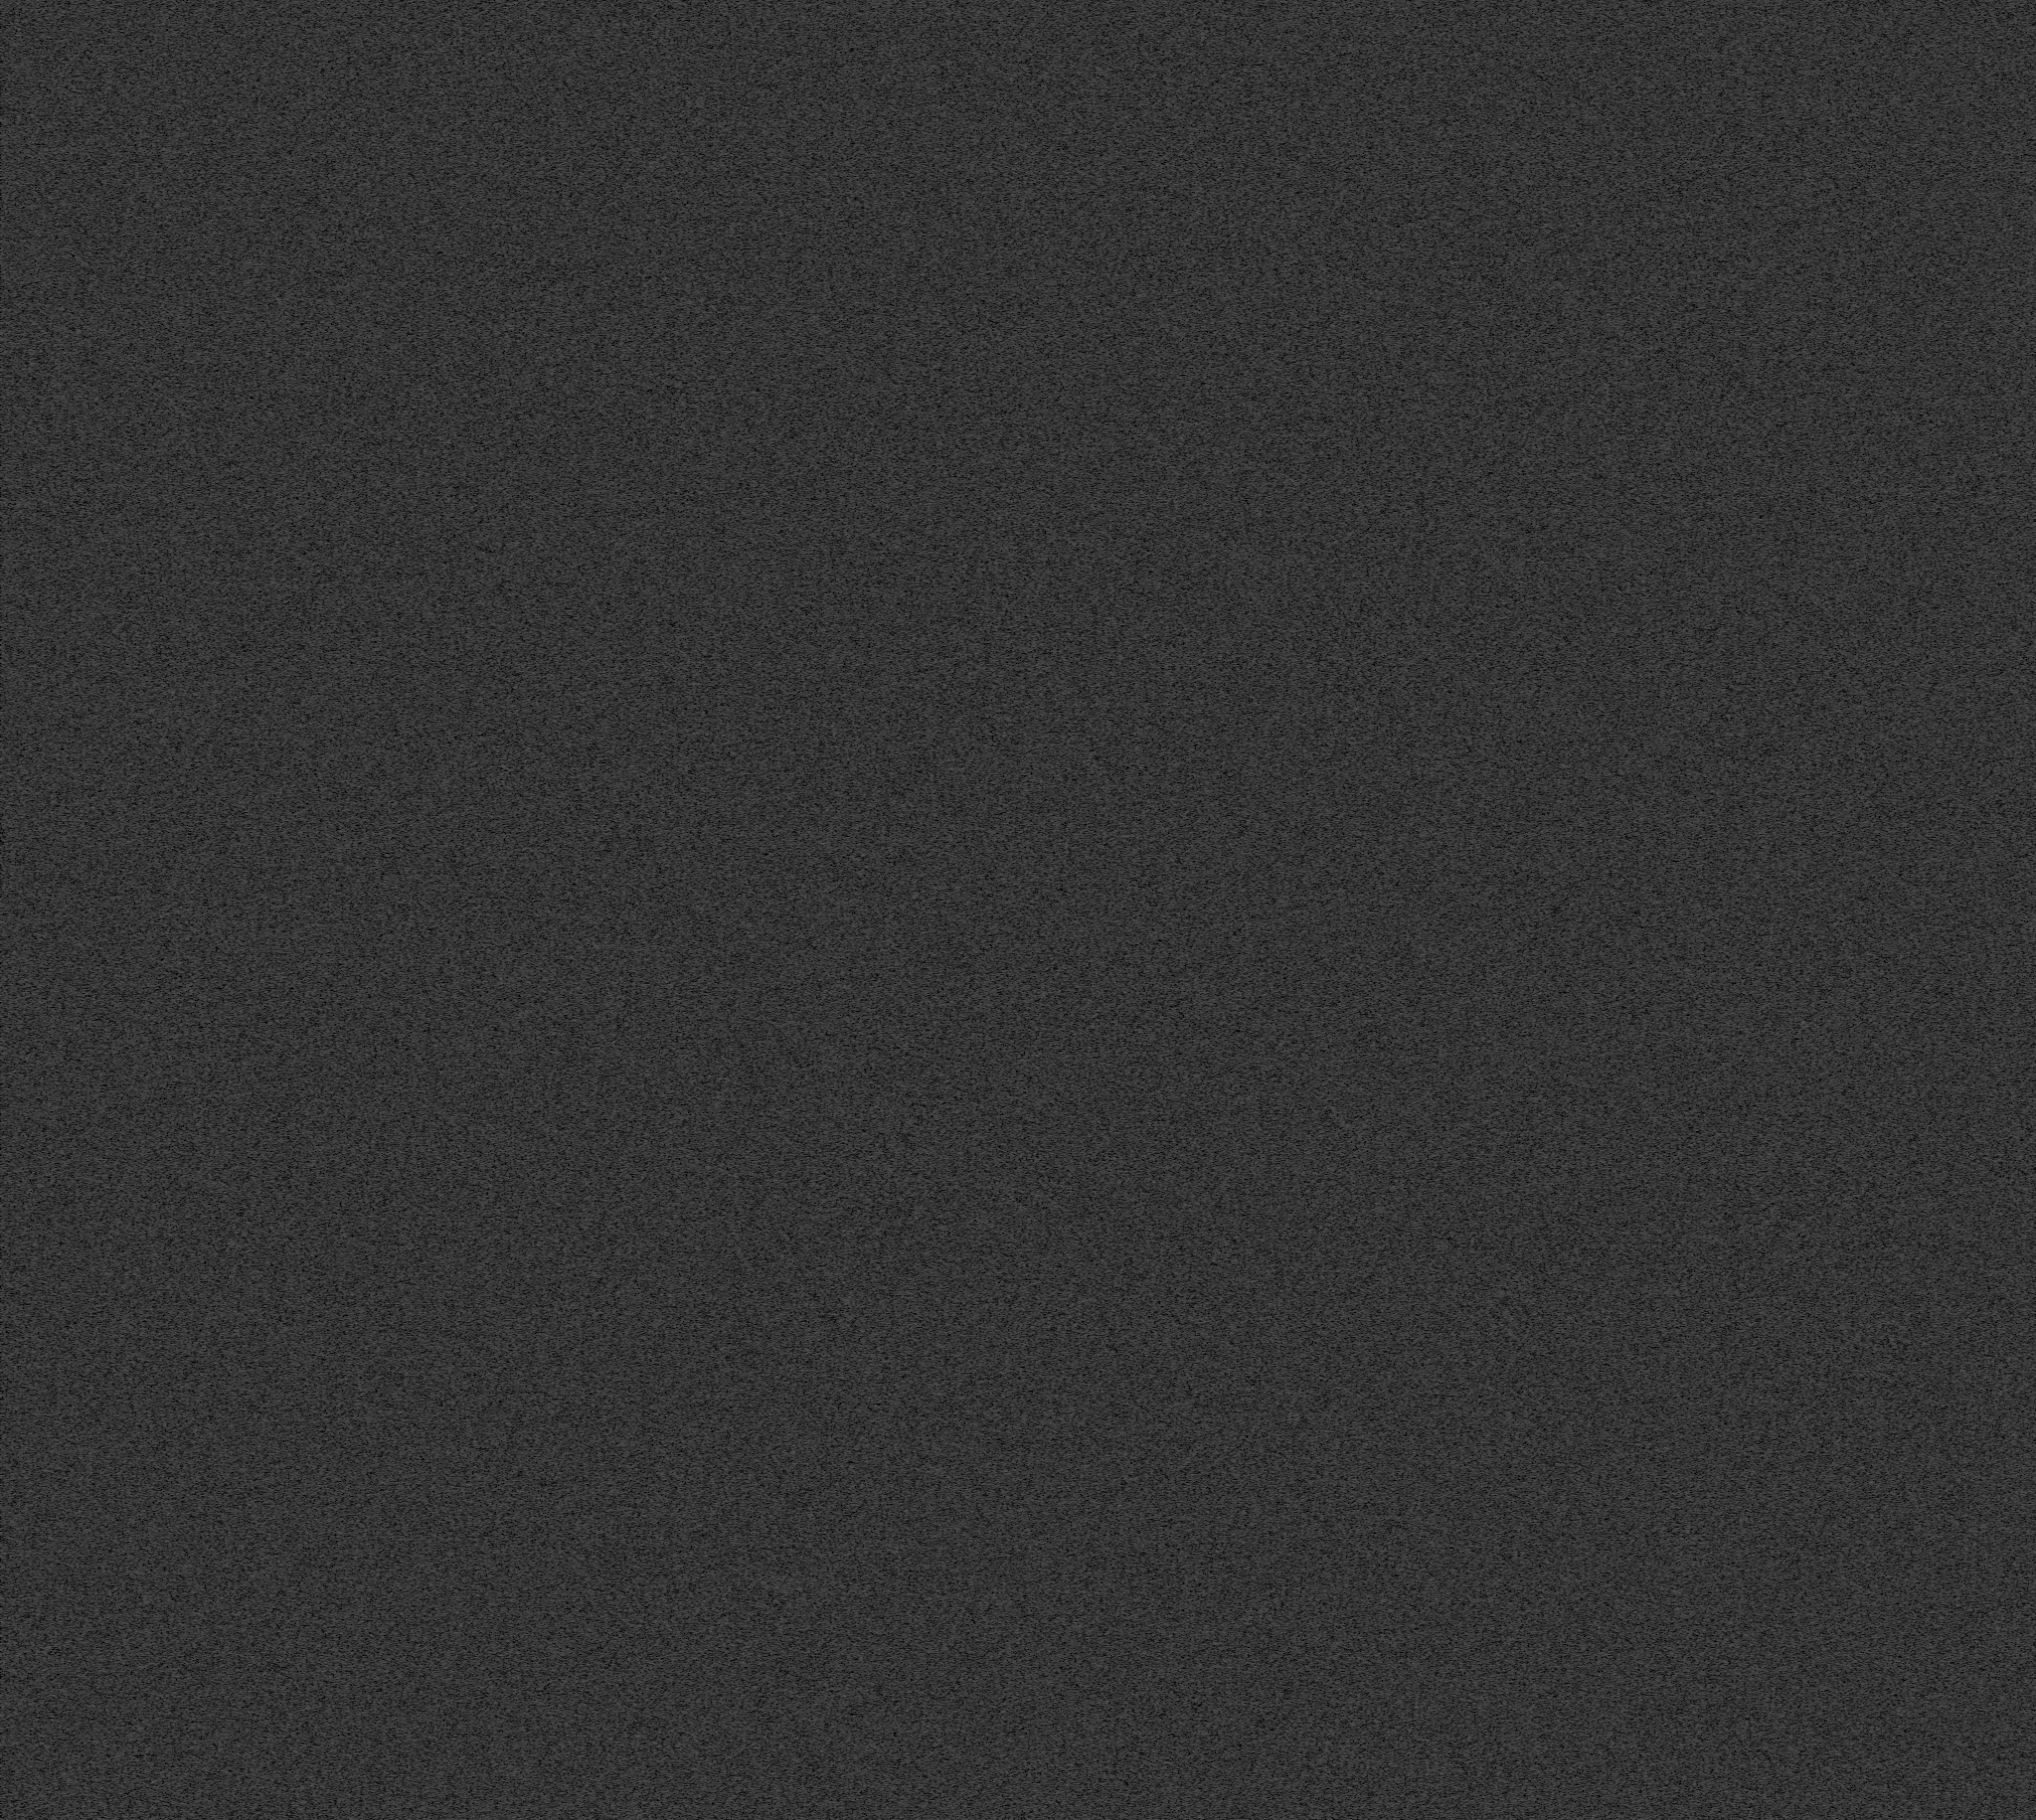wv_am: (1549, 2, 1555, 1818)
wv_cw: (1618, 2, 1623, 1818)
wv_lsb: (1525, 14, 1528, 764), (1523, 1353, 1528, 1592), (1525, 1593, 1528, 1818), (1525, 791, 1528, 973), (1525, 1142, 1528, 1237), (1525, 1103, 1528, 1140), (1525, 980, 1528, 1005), (1525, 1068, 1528, 1091), (1525, 1021, 1528, 1044), (1525, 766, 1528, 789), (1525, 1335, 1528, 1353), (1525, 1311, 1528, 1326), (1525, 1054, 1528, 1066), (1525, 1008, 1528, 1021), (1525, 1091, 1528, 1101), (1525, 1256, 1528, 1265), (1525, 1045, 1528, 1052), (1525, 1267, 1528, 1272), (1525, 1242, 1528, 1247), (1525, 973, 1528, 979), (1525, 1328, 1528, 1333), (1525, 1304, 1528, 1309), (1525, 1291, 1528, 1296), (1525, 1281, 1528, 1286), (1525, 1249, 1528, 1253), (1525, 1237, 1528, 1240), (1525, 1298, 1528, 1302), (1525, 1288, 1528, 1289)
